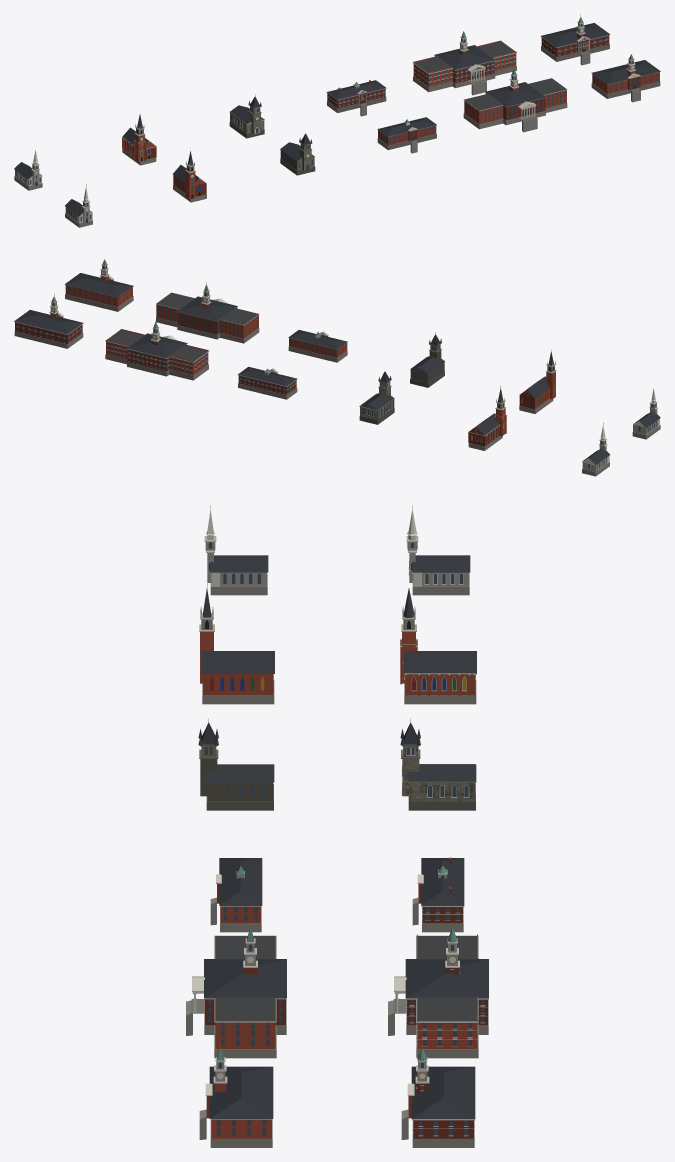
The model's file is civic_hero_far.glb.
The picture shows the model from 3 angles, top to bottom: view 1: azimuth 30°, elevation 25°; view 2: azimuth 150°, elevation 25°; view 3: azimuth 270°, elevation 25°; orthographic projection. The views are drawn at different scales.
Parts seen in each view (by area): view 1: school_high_1, school_high_2, civic_hall_1, civic_hall_2, school_elem_2, school_elem_1, church_gothic_1, church_rom_1, church_rom_2, church_gothic_2, church_clap_1, church_clap_2; view 2: school_high_1, school_high_2, civic_hall_1, civic_hall_2, school_elem_1, school_elem_2, church_gothic_1, church_gothic_2, church_rom_1, church_rom_2, church_clap_1, church_clap_2; view 3: school_high_1, school_high_2, civic_hall_1, civic_hall_2, church_gothic_1, church_gothic_2, church_rom_1, church_rom_2, school_elem_1, school_elem_2, church_clap_1, church_clap_2.
Boxes of the visible parts, x1,y1,x2,y2 form: school_high_1: (413,31,516,95); school_high_2: (463,68,567,132); civic_hall_1: (540,14,610,65); civic_hall_2: (591,54,660,102); school_elem_2: (377,117,436,153); school_elem_1: (326,80,386,116); church_gothic_1: (122,114,156,165); church_rom_1: (229,94,264,138); church_rom_2: (280,133,315,175); church_gothic_2: (173,151,206,202); church_clap_1: (14,150,42,190); church_clap_2: (65,184,92,227); school_high_1: (105,321,209,380); school_high_2: (156,282,259,343); civic_hall_1: (14,293,83,348); civic_hall_2: (65,259,133,311); school_elem_1: (237,366,297,399); school_elem_2: (288,330,347,362); church_gothic_1: (468,385,506,450); church_gothic_2: (519,349,556,413); church_rom_1: (359,371,394,424); church_rom_2: (410,332,444,387); church_clap_1: (582,423,610,476); church_clap_2: (632,388,660,439); school_high_1: (388,922,488,1058); school_high_2: (186,922,286,1058); civic_hall_1: (401,1048,475,1147); civic_hall_2: (199,1043,273,1147); church_gothic_1: (400,588,476,704); church_gothic_2: (199,583,274,704); church_rom_1: (400,718,476,810); church_rom_2: (198,718,274,810); school_elem_1: (412,857,464,932); school_elem_2: (210,858,262,932); church_clap_1: (406,505,470,595); church_clap_2: (204,505,268,595).
Bounding box in the file's own units: 531 × 52.5 × 120.
